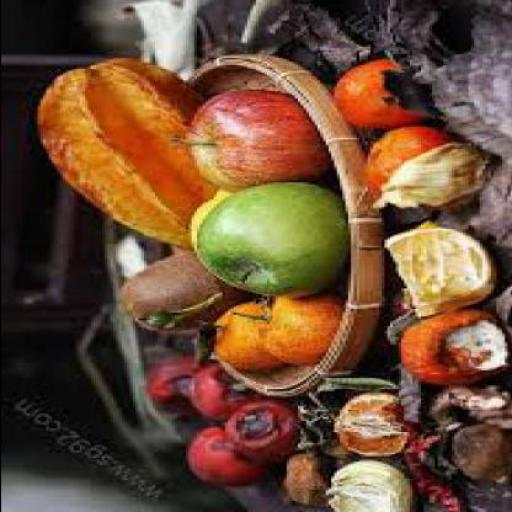biodegradable: (30, 60, 210, 252), (193, 182, 344, 300), (167, 92, 325, 195), (378, 225, 490, 320), (356, 130, 484, 210), (115, 257, 246, 334), (377, 400, 465, 511), (397, 311, 506, 386), (328, 62, 436, 130), (258, 294, 344, 368), (204, 303, 288, 376), (182, 426, 268, 488), (330, 396, 411, 460), (221, 402, 293, 469), (320, 463, 415, 511), (146, 358, 210, 422), (185, 365, 252, 424), (423, 386, 509, 430), (447, 426, 509, 484), (185, 188, 235, 258), (278, 459, 324, 510), (146, 296, 212, 329), (294, 398, 328, 456), (311, 377, 394, 396), (190, 324, 210, 358)
